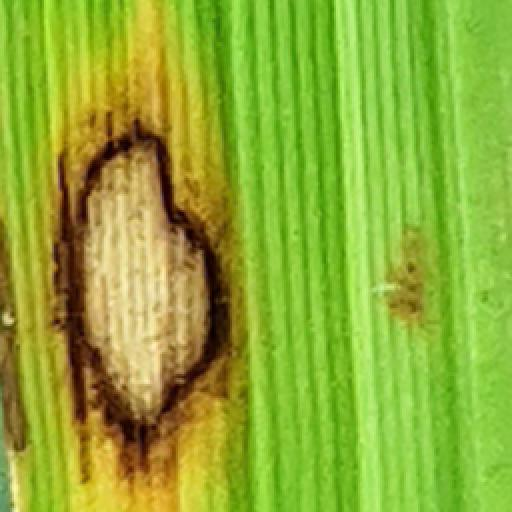Brown Spot: (30, 50, 300, 498), (0, 212, 30, 464), (380, 222, 438, 328)
